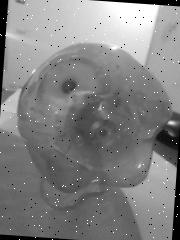plastic: (12, 36, 176, 201)
